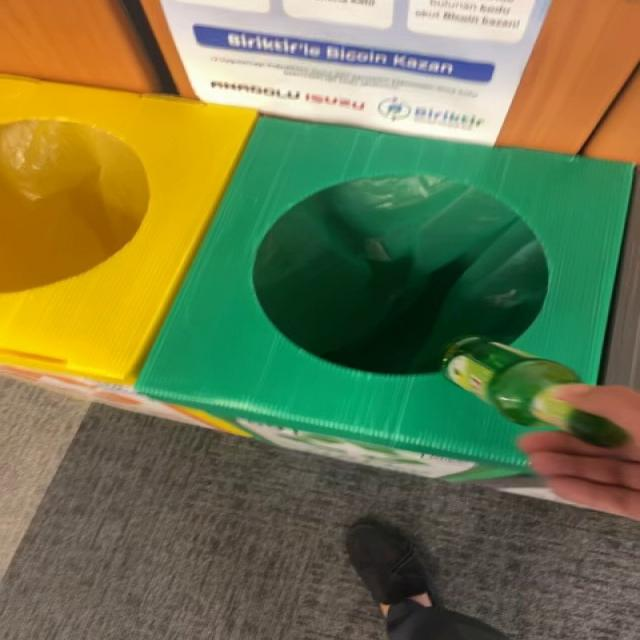glass: (444, 338, 631, 448)
